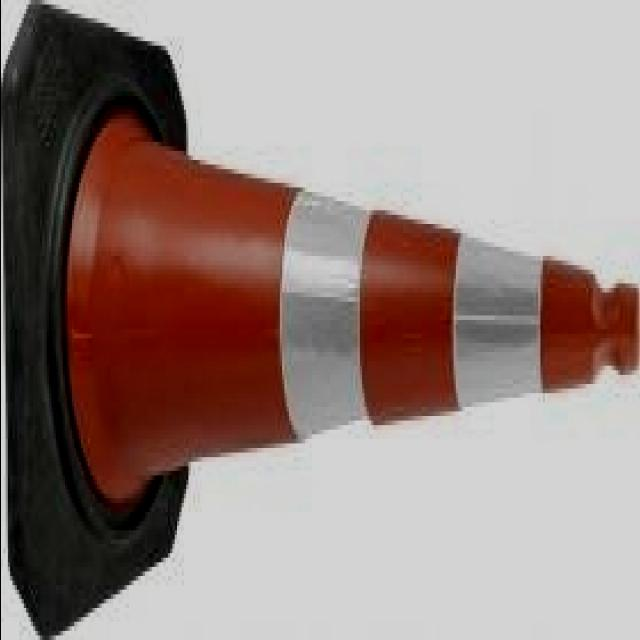cone: (30, 82, 630, 513)
